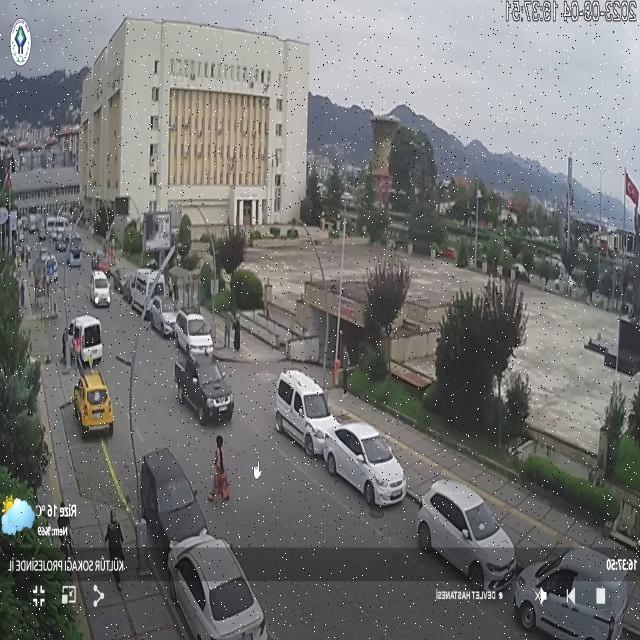Car: (416, 479, 515, 590), (164, 533, 267, 639), (138, 447, 208, 551), (324, 422, 407, 508), (72, 369, 116, 438), (62, 316, 103, 364), (174, 310, 214, 356), (149, 296, 181, 335), (89, 268, 111, 305)
Truck: (174, 350, 234, 424)
Van: (511, 545, 630, 638), (273, 370, 338, 454), (130, 268, 164, 316)
